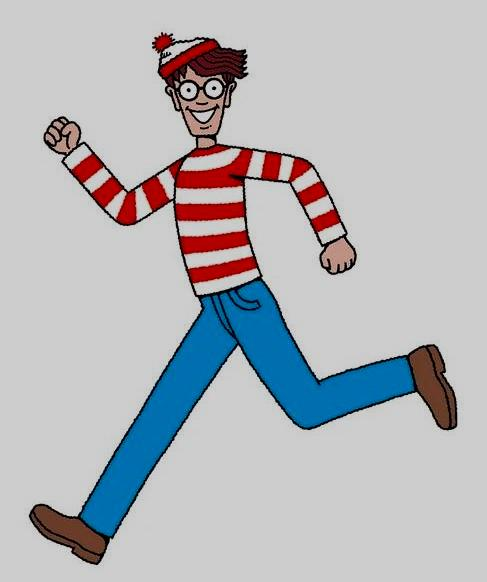waldos: (26, 33, 459, 565)
